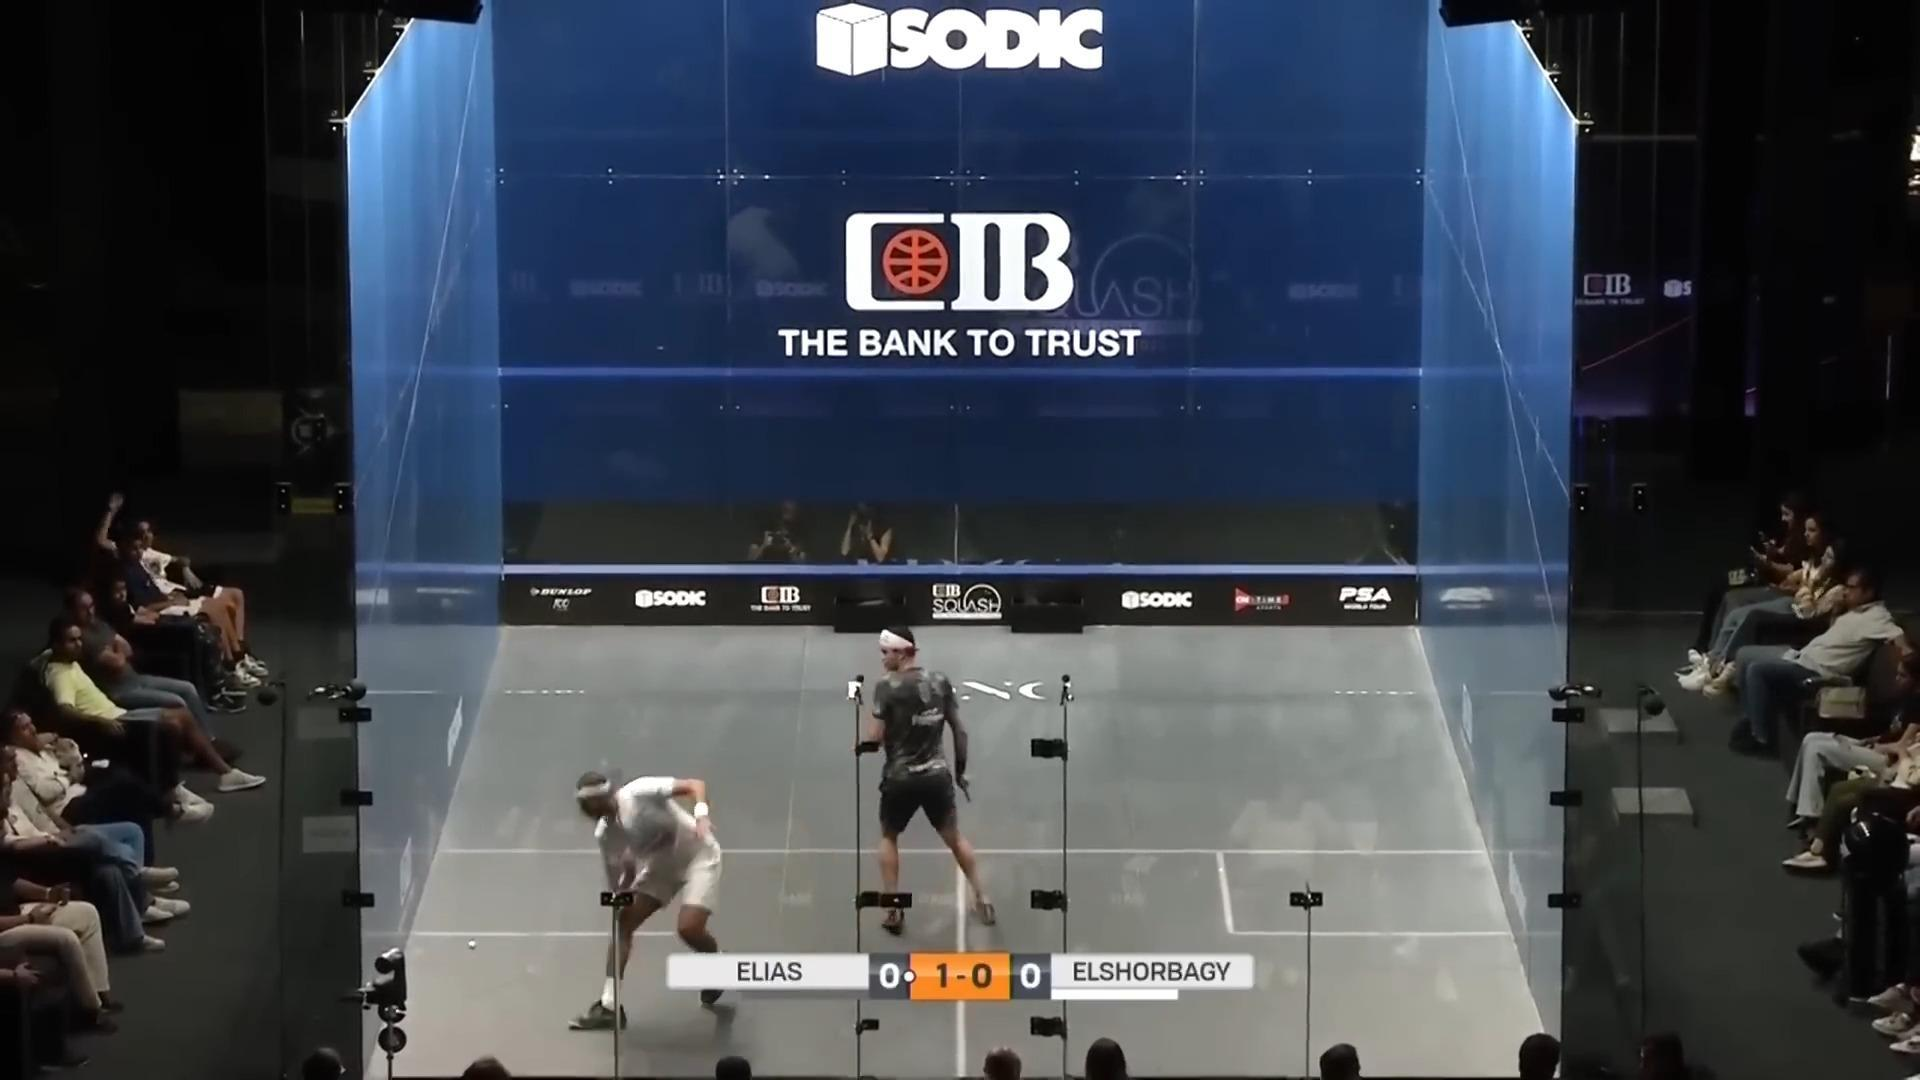Squash-Ball: (456, 932, 485, 956)
